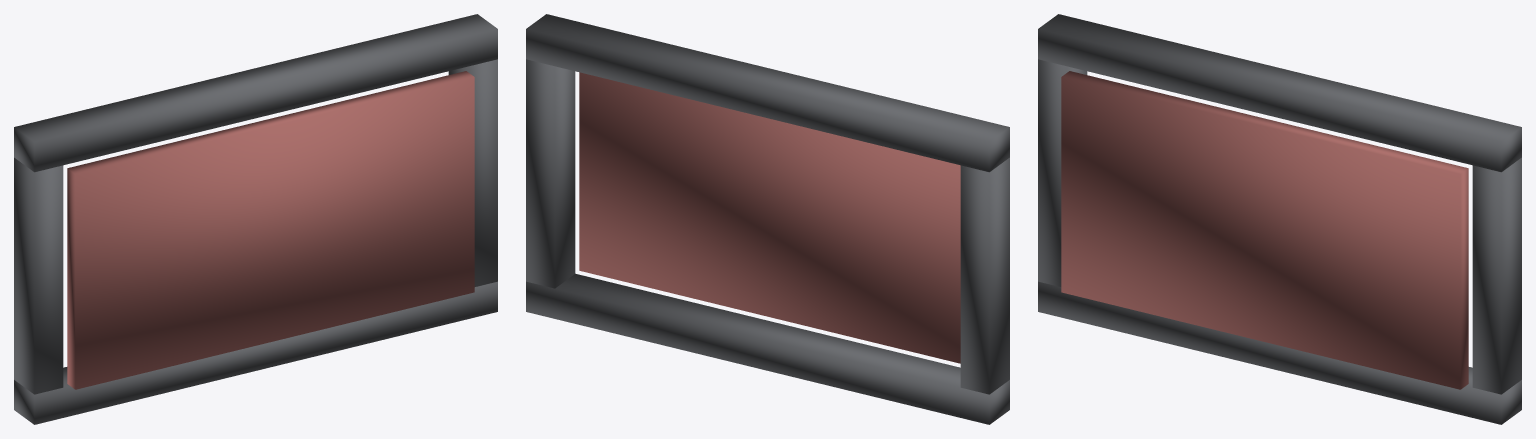
File: on_air_wall_sign.glb
3 views of the same model, side by side, from view 1: azimuth 30°, elevation 25°; view 2: azimuth 150°, elevation 25°; view 3: azimuth 330°, elevation 25° (orthographic).
Parts seen in each view (by area): view 1: world; view 2: world; view 3: world.
Part boxes in pixels (x1,y1,x2,y2): world: (14,14,497,424); world: (526,14,1009,424); world: (1038,14,1521,424).
Size of the model in its own units: 0.72 by 0.42 by 0.0785.
